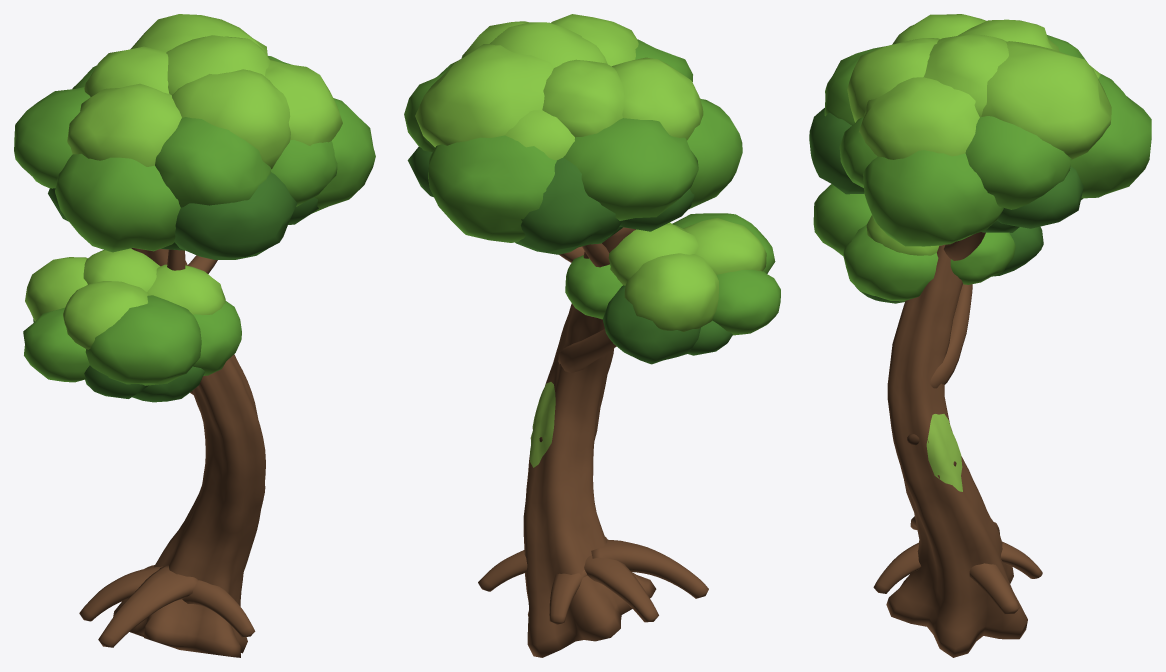
Rendered from arbol_torcido_v05_lod0.glb.
The picture shows the model from 3 angles, left to right: view 1: azimuth 30°, elevation 25°; view 2: azimuth 150°, elevation 25°; view 3: azimuth 270°, elevation 25°; orthographic projection.
Parts seen in each view (by area): view 1: Arbol_torcido_v05_LOD0; view 2: Arbol_torcido_v05_LOD0; view 3: Arbol_torcido_v05_LOD0.
Part boxes in pixels (x1=…): Arbol_torcido_v05_LOD0: x1=14, y1=14, x2=375, y2=657; Arbol_torcido_v05_LOD0: x1=404, y1=14, x2=780, y2=657; Arbol_torcido_v05_LOD0: x1=809, y1=14, x2=1151, y2=657.
Bounding box in the file's own units: 40.79 × 69.43 × 35.43.
